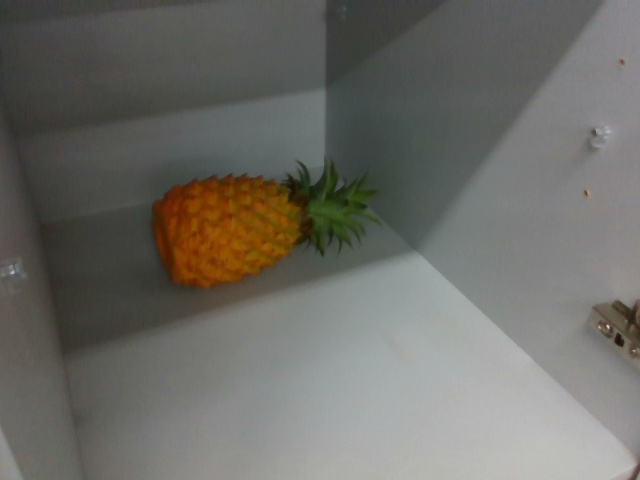pineapple: (145, 166, 378, 280)
